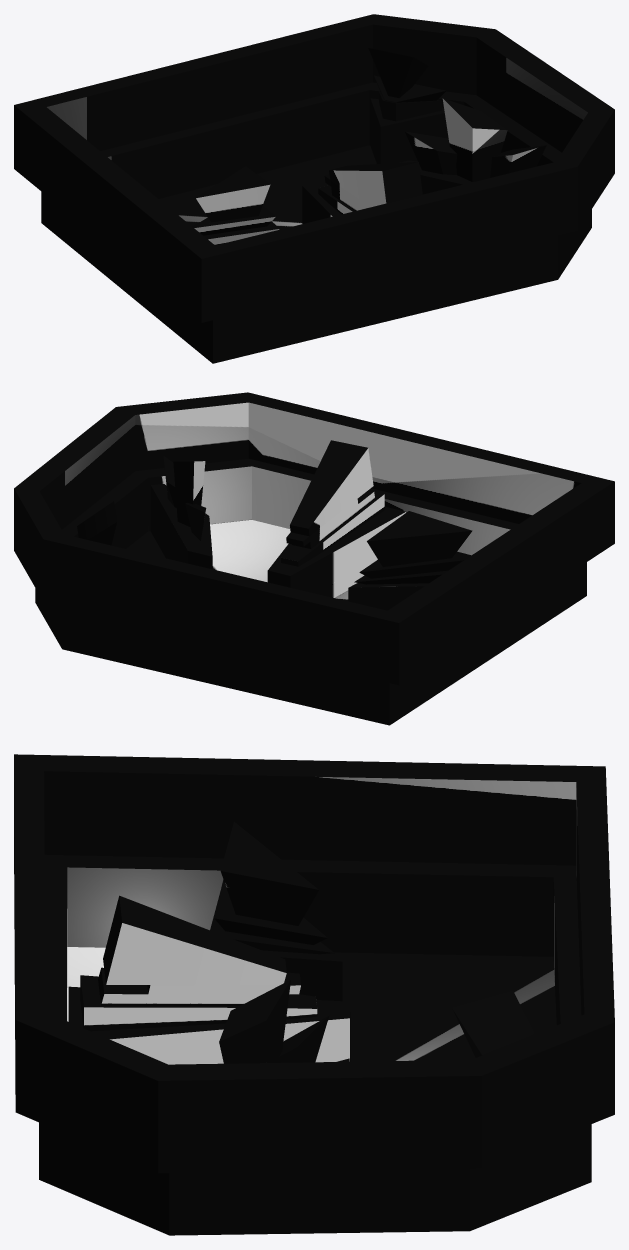
File: level2_4.fbx
3 views of the same model, one above another, from view 1: azimuth 30°, elevation 25°; view 2: azimuth 150°, elevation 25°; view 3: azimuth 270°, elevation 25° (orthographic). The views are drawn at different scales.
Visible parts, largest first — view 1: 2-4_upper_wall, 2-4_lower_wall, 2-4_pillar_magenta_top, 2-4_floor, 2-4_pillar_yellow_top, 2-4_pillar_red_top, 2-4_pillar_blue_top, 2-4_pillar_blue, 2-4_pillar_red, 2-4_pillar_magenta; view 2: 2-4_upper_wall, 2-4_lower_wall, 2-4_pillar_red_top, 2-4_pillar_yellow_top, 2-4_pillar_red, 2-4_floor, 2-4_pillar_magenta, 2-4_pillar_magenta_top, 2-4_pillar_yellow, 2-4_pillar_blue_top; view 3: 2-4_upper_wall, 2-4_lower_wall, 2-4_floor, 2-4_pillar_red_top, 2-4_pillar_yellow_top, 2-4_pillar_red, 2-4_pillar_magenta_top, 2-4_pillar_blue_top, 2-4_pillar_yellow.
Boxes of the visible parts, <box> form: 2-4_upper_wall: <box>14,14,614,322</box>; 2-4_lower_wall: <box>41,82,591,363</box>; 2-4_pillar_magenta_top: <box>404,98,546,181</box>; 2-4_floor: <box>159,145,376,229</box>; 2-4_pillar_yellow_top: <box>192,166,279,245</box>; 2-4_pillar_red_top: <box>318,162,422,214</box>; 2-4_pillar_blue_top: <box>368,48,446,121</box>; 2-4_pillar_blue: <box>370,98,448,163</box>; 2-4_pillar_red: <box>302,180,341,223</box>; 2-4_pillar_magenta: <box>399,160,474,194</box>; 2-4_upper_wall: <box>14,392,614,685</box>; 2-4_lower_wall: <box>35,458,586,725</box>; 2-4_pillar_red_top: <box>281,440,384,566</box>; 2-4_pillar_yellow_top: <box>354,511,472,584</box>; 2-4_pillar_red: <box>267,506,405,597</box>; 2-4_floor: <box>126,520,348,601</box>; 2-4_pillar_magenta: <box>150,484,212,569</box>; 2-4_pillar_magenta_top: <box>163,455,206,540</box>; 2-4_pillar_yellow: <box>348,583,428,610</box>; 2-4_pillar_blue_top: <box>77,501,116,545</box>; 2-4_upper_wall: <box>14,754,614,1173</box>; 2-4_lower_wall: <box>39,854,591,1235</box>; 2-4_floor: <box>67,947,556,1061</box>; 2-4_pillar_red_top: <box>80,895,317,1031</box>; 2-4_pillar_yellow_top: <box>210,821,334,954</box>; 2-4_pillar_red: <box>68,986,350,1064</box>; 2-4_pillar_magenta_top: <box>219,980,328,1063</box>; 2-4_pillar_blue_top: <box>452,990,534,1057</box>; 2-4_pillar_yellow: <box>262,950,342,1001</box>.
Bounding box in the file's own units: 19.04 × 5.01 × 14.81.
11 materials, 11 textured.
